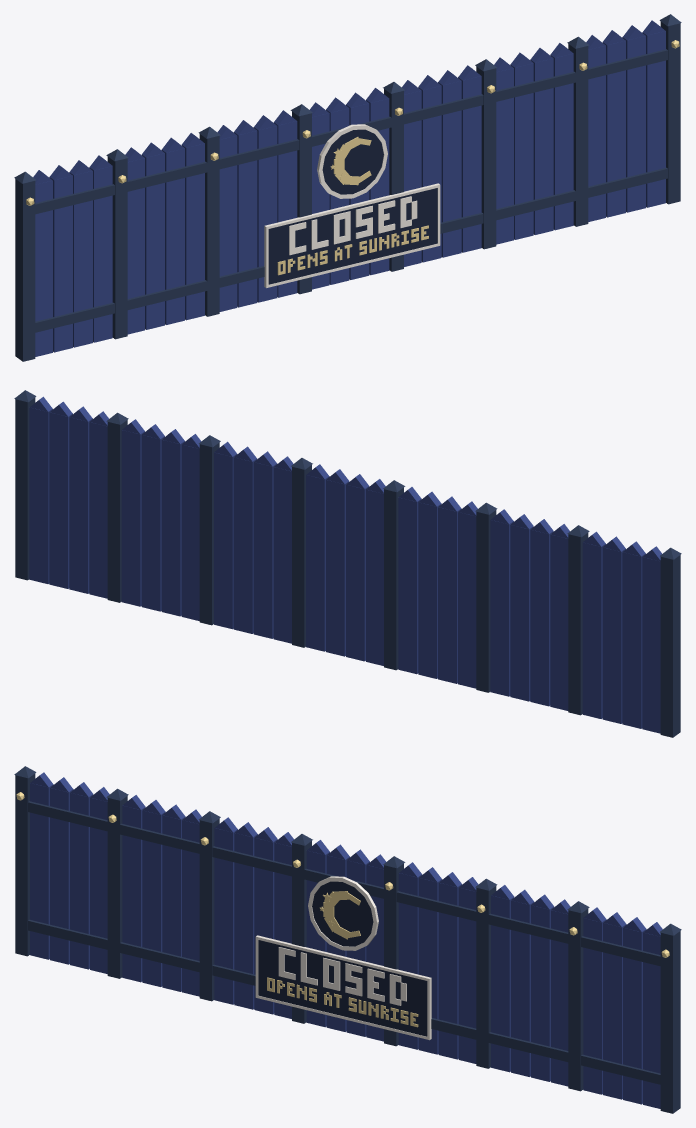
File: CatCafe_Park_NightFence.glb
3 renders of one model, top to bottom at view 1: azimuth 30°, elevation 25°; view 2: azimuth 150°, elevation 25°; view 3: azimuth 330°, elevation 25°, orthographic.
Visible parts, largest first — view 1: CatCafe_Park_NightFence, CatCafe_Park_NightFence_Moon_Bulb; view 2: CatCafe_Park_NightFence; view 3: CatCafe_Park_NightFence, CatCafe_Park_NightFence_Moon_Bulb.
Boxes of the visible parts, x1,y1,x2,y2 form: CatCafe_Park_NightFence: (14, 14, 681, 361); CatCafe_Park_NightFence_Moon_Bulb: (26, 40, 679, 275); CatCafe_Park_NightFence: (14, 390, 681, 737); CatCafe_Park_NightFence: (14, 766, 681, 1113); CatCafe_Park_NightFence_Moon_Bulb: (16, 792, 669, 1027).
Bounding box in the file's own units: 32.06 × 8.64 × 0.9251.
Materials: 1 (1 with a texture image).
